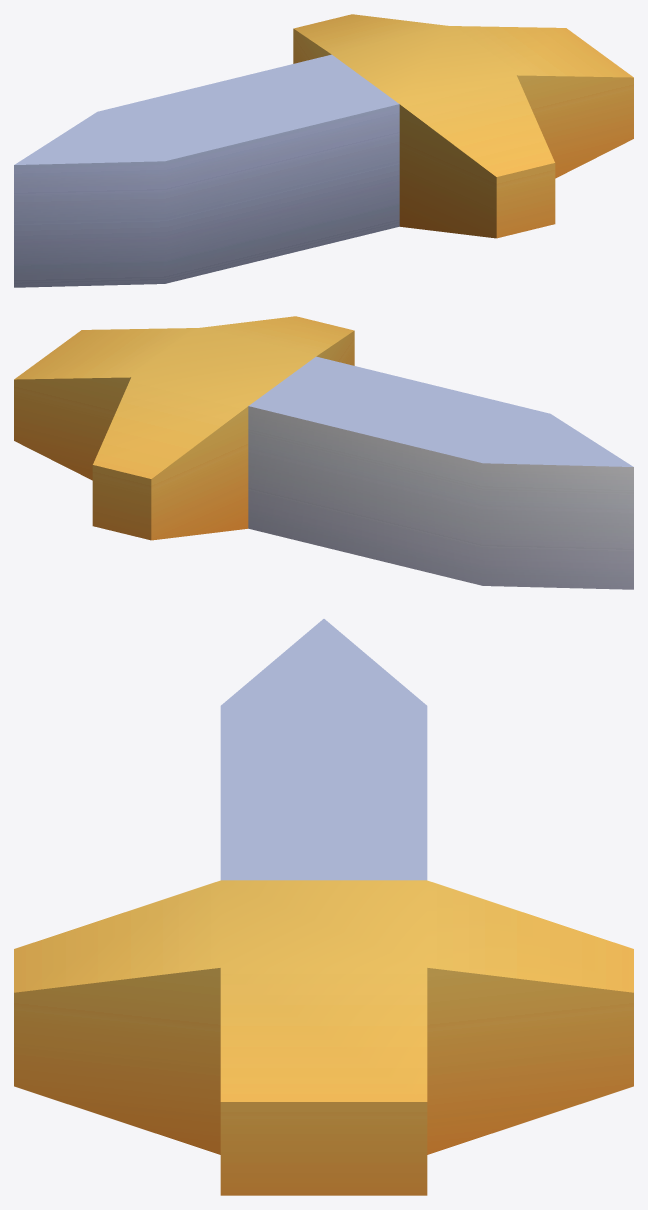
File: weapon-sword.glb
3 views of the same model, one above another, from view 1: azimuth 30°, elevation 25°; view 2: azimuth 150°, elevation 25°; view 3: azimuth 270°, elevation 25° (orthographic). The views are drawn at different scales.
Parts seen in each view (by area): view 1: weapon-sword; view 2: weapon-sword; view 3: weapon-sword.
Part boxes in pixels (<box>): weapon-sword: <box>14,14,633,287</box>; weapon-sword: <box>14,316,633,589</box>; weapon-sword: <box>14,619,633,1195</box>.
Bounding box in the file's own units: 0.5 × 0.1 × 0.3.
Materials: 1 (1 with a texture image).
